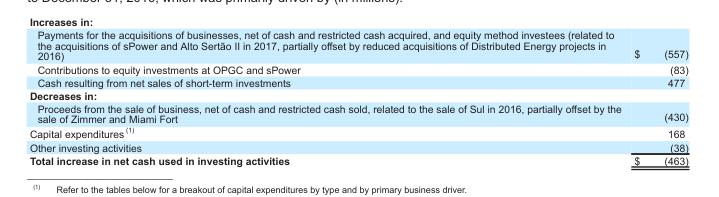table: (28, 29, 687, 165)
table column: (28, 29, 627, 165), (627, 29, 687, 165)
table projected row header: (28, 89, 687, 102)
table row: (28, 29, 687, 62), (28, 102, 687, 125), (28, 125, 687, 140), (28, 62, 687, 76), (28, 76, 687, 89), (28, 89, 687, 102), (28, 140, 687, 153), (28, 153, 687, 165)
